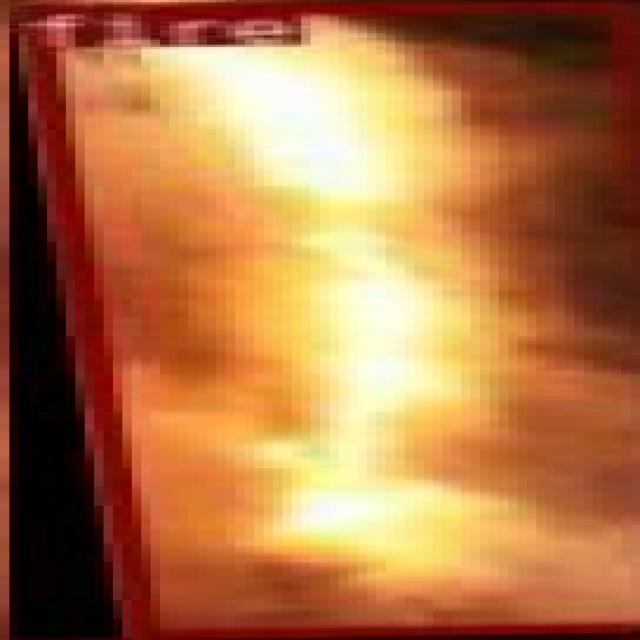fire: (9, 2, 640, 640)
